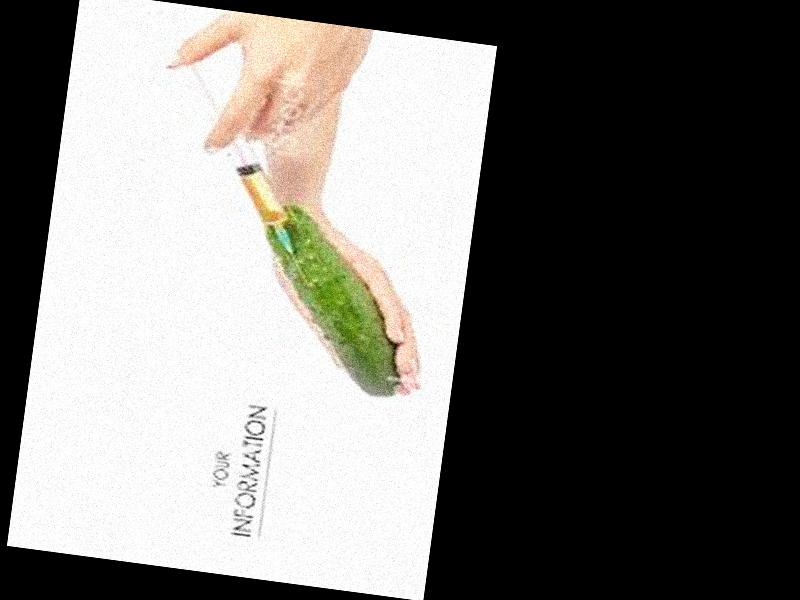Cucumber: (241, 203, 418, 397)
